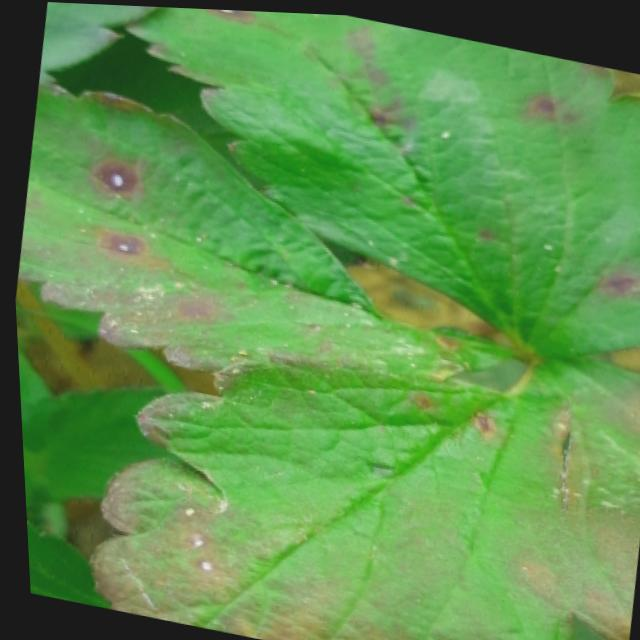Leaf Spot: (116, 6, 640, 359), (80, 314, 640, 640), (14, 83, 385, 371), (37, 2, 157, 82)
